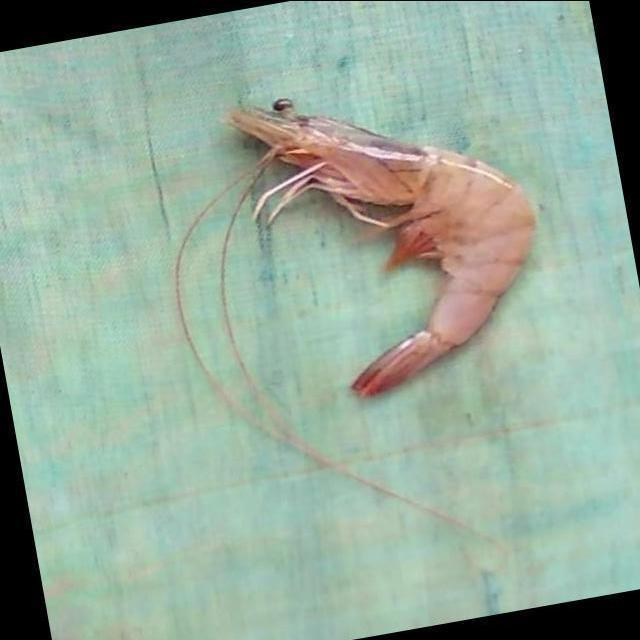shrimp: (227, 99, 536, 397)
